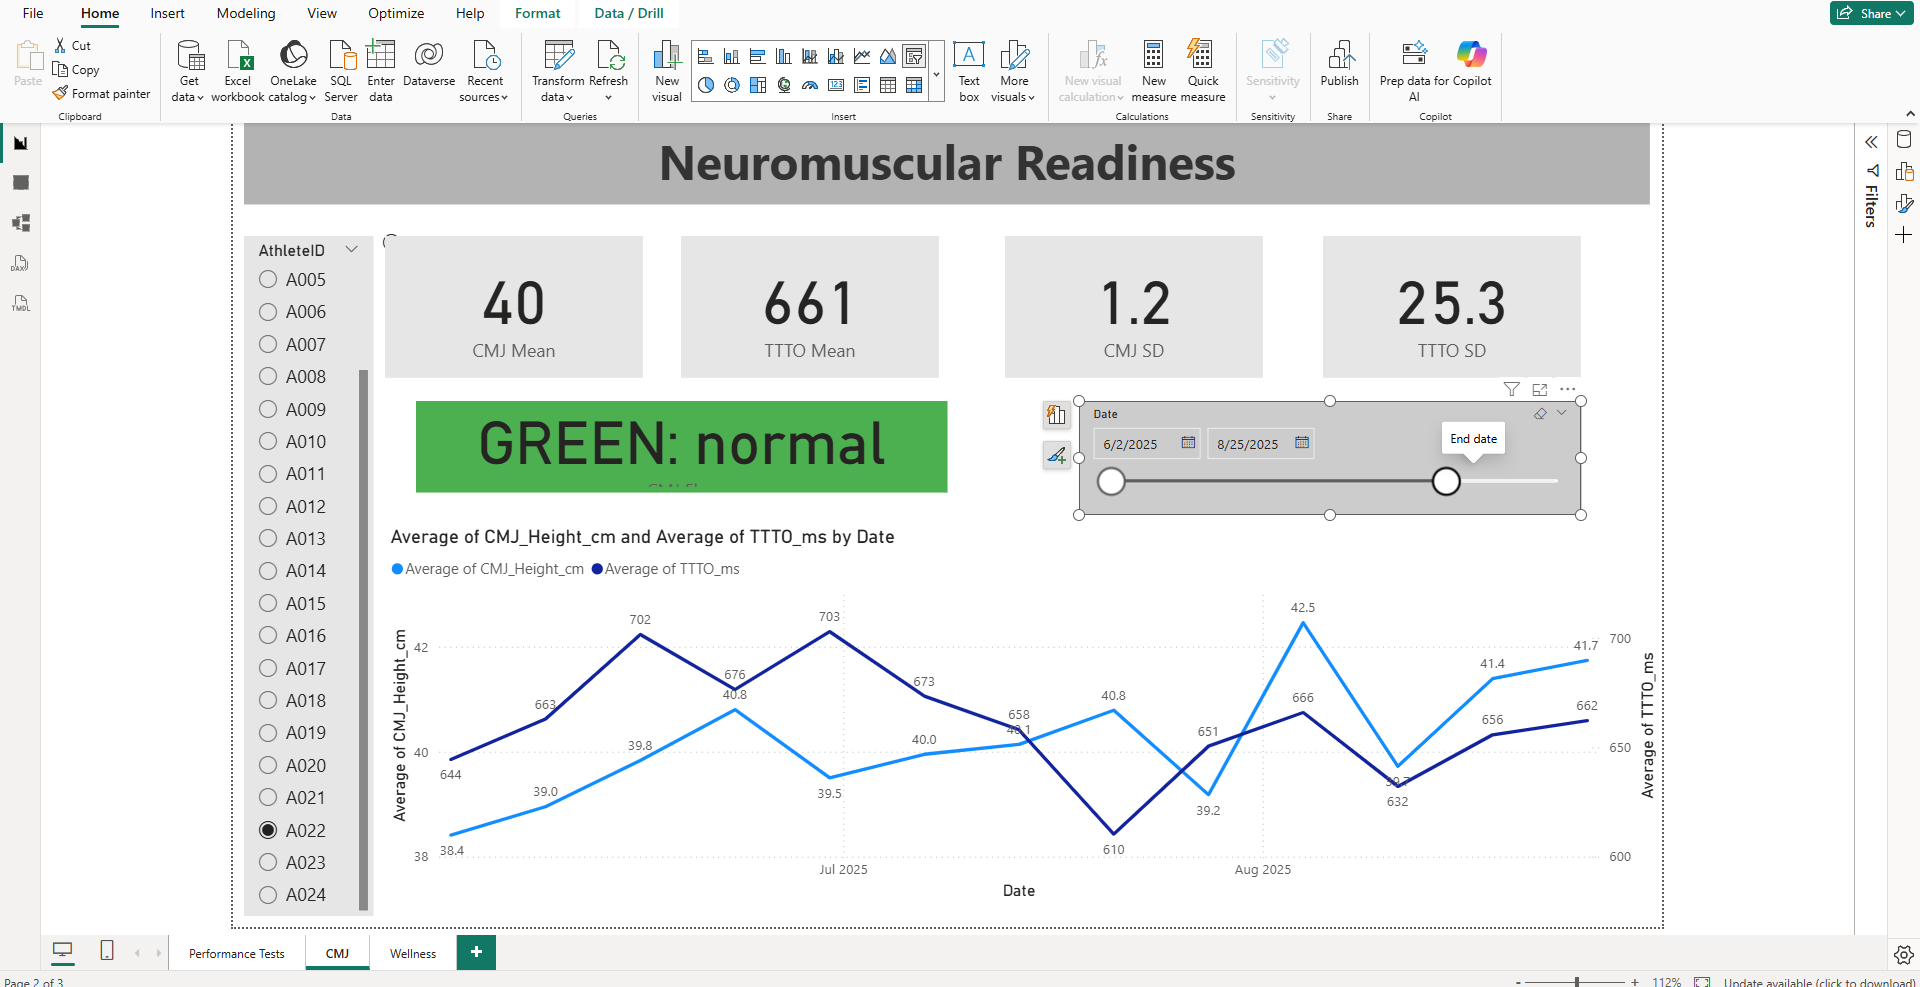

This screenshot's page, from the dashboard's own definition file:
{"tool":"powerbi","page":{"name":"CMJ","canvas":[1280,720],"ordinal":1},"visuals":[{"type":"textbox","box":[9.9,0,1259.1,73.4],"z":0},{"type":"slicer","fields":{"Values":["tCMJ_Weekly.AthleteID"]},"box":[9.9,101.2,115.5,609],"z":1000},{"type":"lineChart","fields":{"Category":["tCMJ_Weekly.Date"],"Y":["Avg(tCMJ_Weekly.CMJ_Height_cm)"],"Y2":["Avg(tCMJ_Weekly.TTTO_ms)"]},"box":[136.1,360,1142.7,340.3],"z":2000},{"type":"card","box":[126.3,91.3,231,127.2],"z":3000},{"type":"card","fields":{"Values":["Athlete.CMJ Mean"]},"box":[136.3,101.3,231,127.2],"z":4000},{"type":"card","fields":{"Values":["Athlete.CMJ SD"]},"box":[691.3,101.2,231,127.2],"z":5000},{"type":"card","fields":{"Values":["Athlete.TTTO SD"]},"box":[976.1,101.2,231,127.2],"z":6000},{"type":"card","fields":{"Values":["Athlete.TTTO Mean"]},"box":[401.2,101.2,231,127.2],"z":7000},{"type":"card","fields":{"Values":["Athlete.CMJ Flag"]},"box":[163.9,249,476.4,82.4],"z":8000},{"type":"slicer","fields":{"Values":["tCMJ_Weekly.Date"]},"box":[858.8,257.9,283,102.1],"z":9000}]}

Visuals, with their boxes on the page's 1280x720 design canvas (x1, y1, x2, y2). These are canvas units, not pixel positions in the 1920x987 screenshot, which may show the page scaled, cropped or inside an application window:
textbox: 10/0/1269/73
slicer - tCMJ_Weekly.AthleteID: 10/101/125/710
lineChart - tCMJ_Weekly.Date x Avg(tCMJ_Weekly.CMJ_Height_cm): 136/360/1279/700
card: 126/91/357/218
card - Athlete.CMJ Mean: 136/101/367/228
card - Athlete.CMJ SD: 691/101/922/228
card - Athlete.TTTO SD: 976/101/1207/228
card - Athlete.TTTO Mean: 401/101/632/228
card - Athlete.CMJ Flag: 164/249/640/331
slicer - tCMJ_Weekly.Date: 859/258/1142/360
